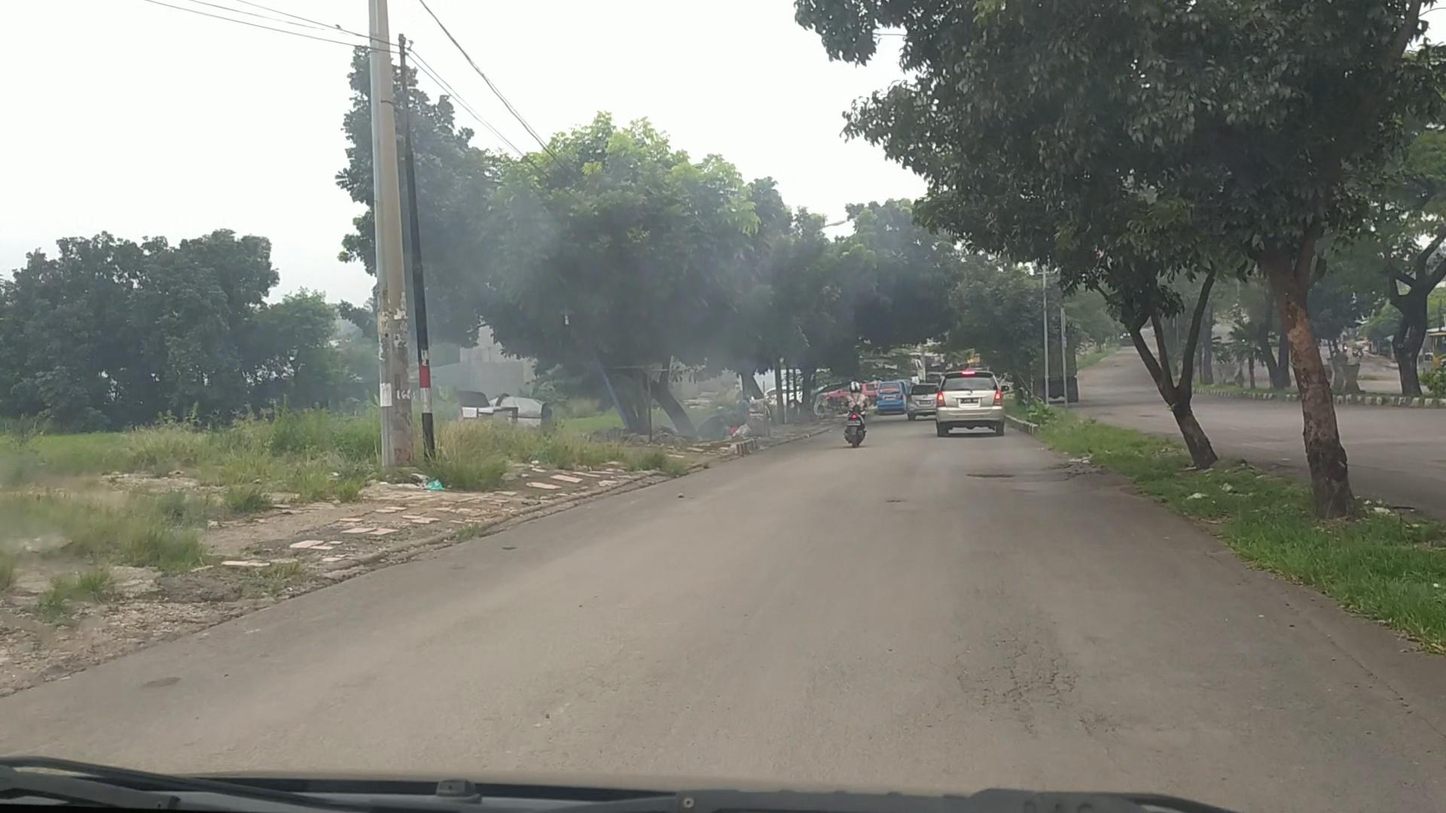pothole: (964, 472, 1017, 479), (884, 498, 905, 504)
